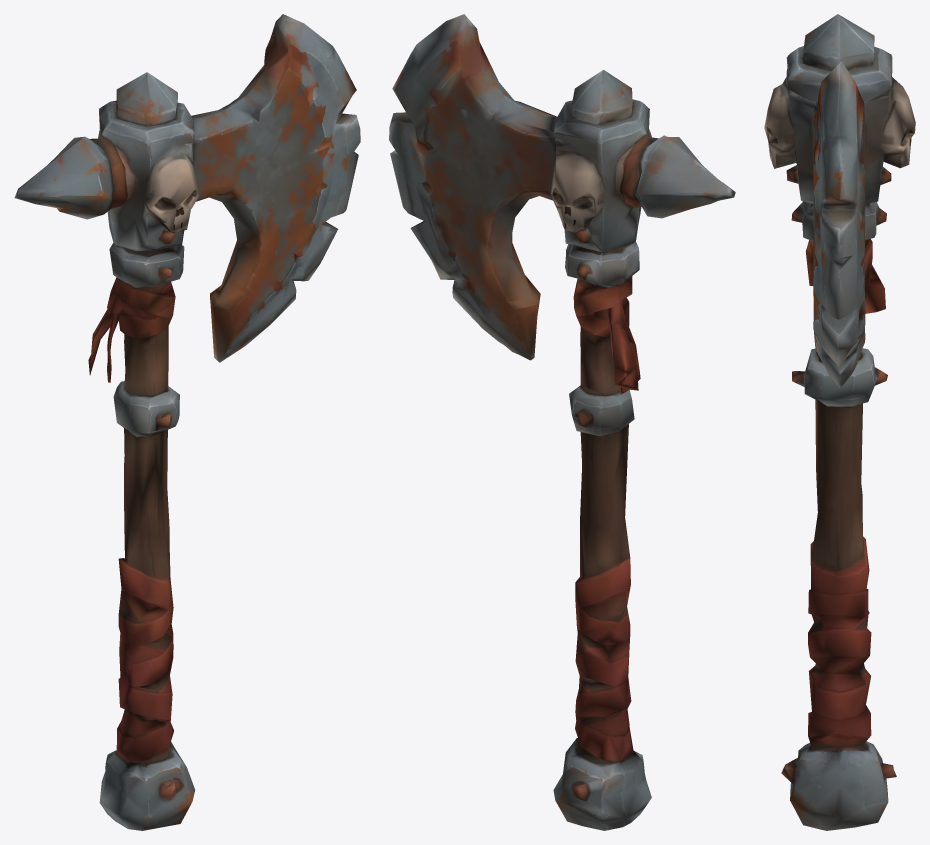
The model's file is Gravekeeper_Axe-DgvYoq55.glb.
3 renders of one model, left to right at view 1: azimuth 30°, elevation 25°; view 2: azimuth 150°, elevation 25°; view 3: azimuth 270°, elevation 25°, orthographic. The views are drawn at different scales.
Visible parts, largest first — view 1: tripo_node_23947c66-bf65-490f-9438-814e71cf268d; view 2: tripo_node_23947c66-bf65-490f-9438-814e71cf268d; view 3: tripo_node_23947c66-bf65-490f-9438-814e71cf268d.
Boxes of the visible parts, x1,y1,x2,y2 form: tripo_node_23947c66-bf65-490f-9438-814e71cf268d: (14,14,360,830); tripo_node_23947c66-bf65-490f-9438-814e71cf268d: (389,14,735,830); tripo_node_23947c66-bf65-490f-9438-814e71cf268d: (764,14,915,830).
Bounding box in the file's own units: 0.9353 × 2 × 0.3301.
1 material, 1 textured.
